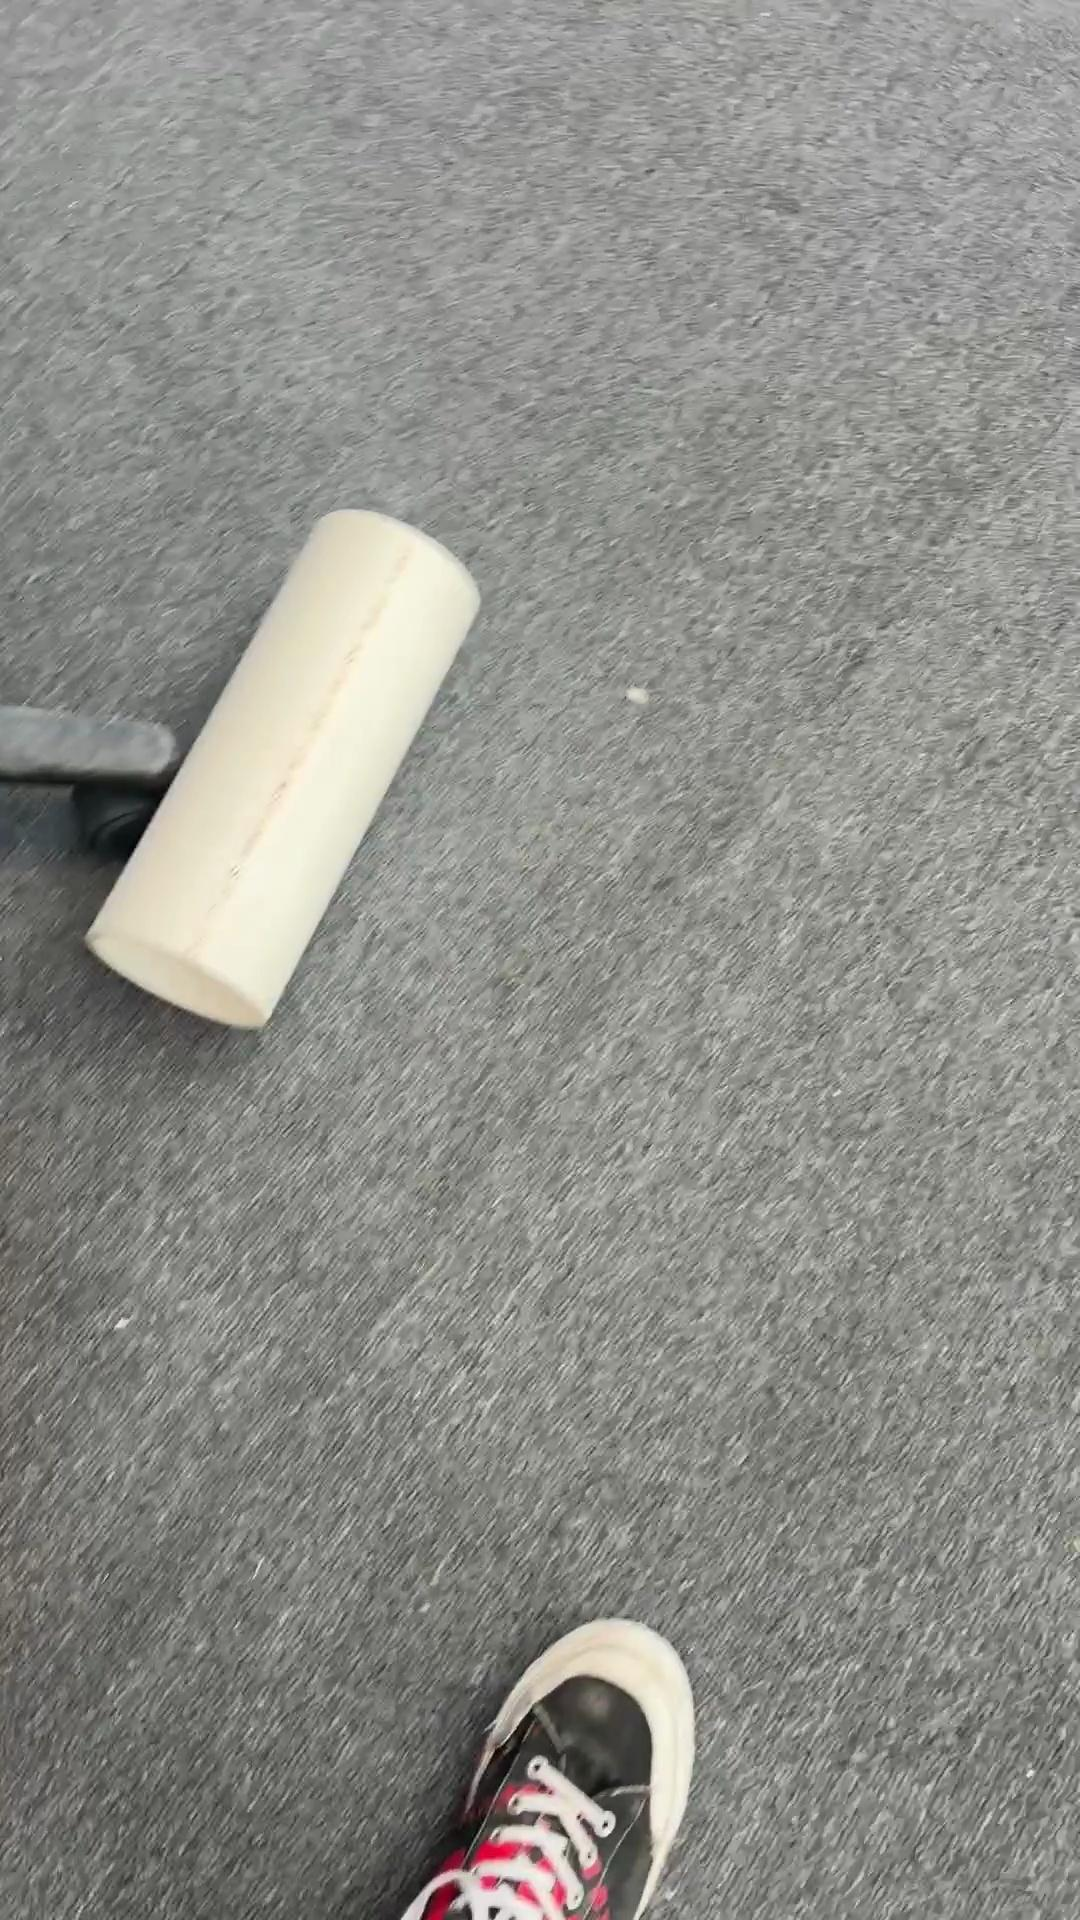CORAL: (80, 502, 483, 1033)
